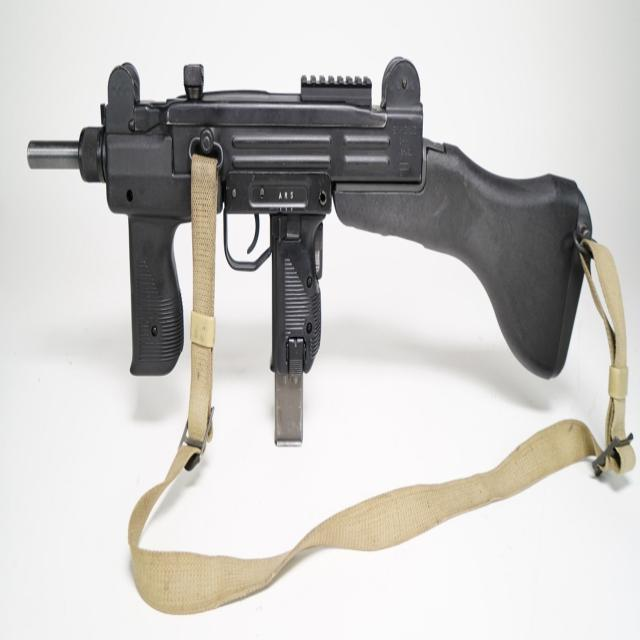SMG: (26, 57, 425, 449)
